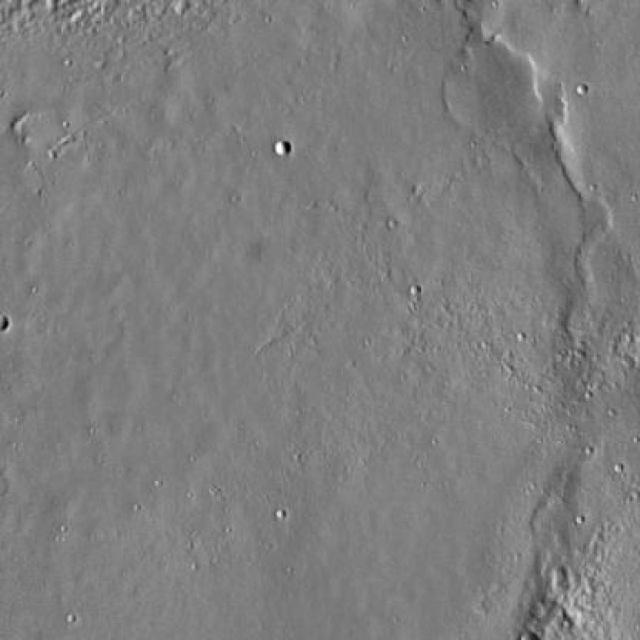crater: (275, 138, 293, 156)
